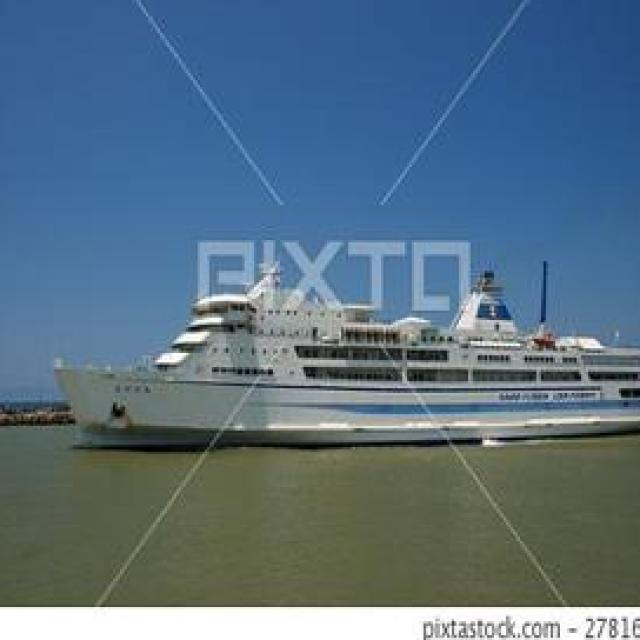passenger ship: (52, 268, 640, 442)
